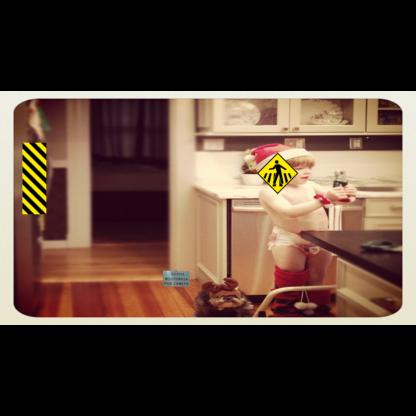A-32b: (257, 153, 298, 194)
I-E: (163, 271, 189, 286)
O-MP: (22, 143, 46, 214)
